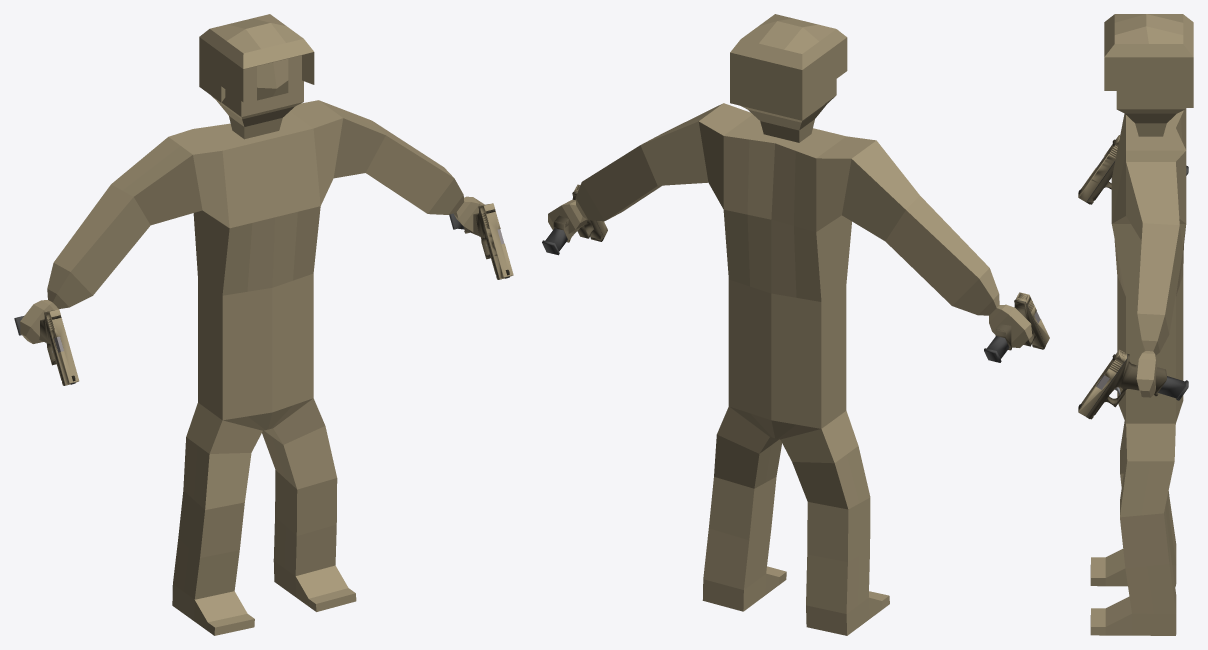
Rendered from soldier3.fbx.
3 views of the same model, side by side, from view 1: azimuth 30°, elevation 25°; view 2: azimuth 150°, elevation 25°; view 3: azimuth 270°, elevation 25° (orthographic).
Parts seen in each view (by area): view 1: Cube; view 2: Cube; view 3: Cube.
Boxes of the visible parts, x1=… form: Cube: x1=14, y1=14, x2=513, y2=635; Cube: x1=542, y1=14, x2=1049, y2=635; Cube: x1=1078, y1=14, x2=1193, y2=635.
Size of the model in its own units: 232 by 270 by 48.42.
